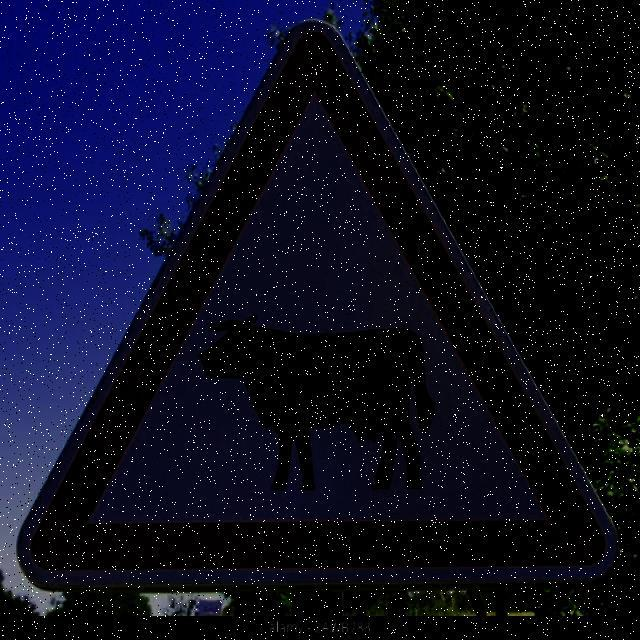Traffic sign: (13, 15, 627, 602)
